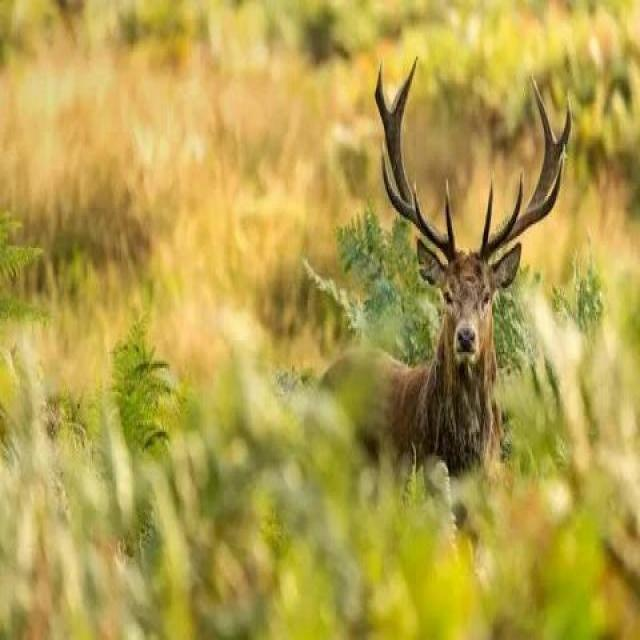deer: (300, 86, 559, 502)
